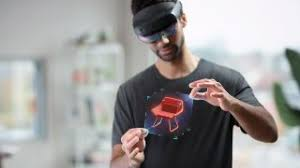hololens: (130, 3, 185, 44)
